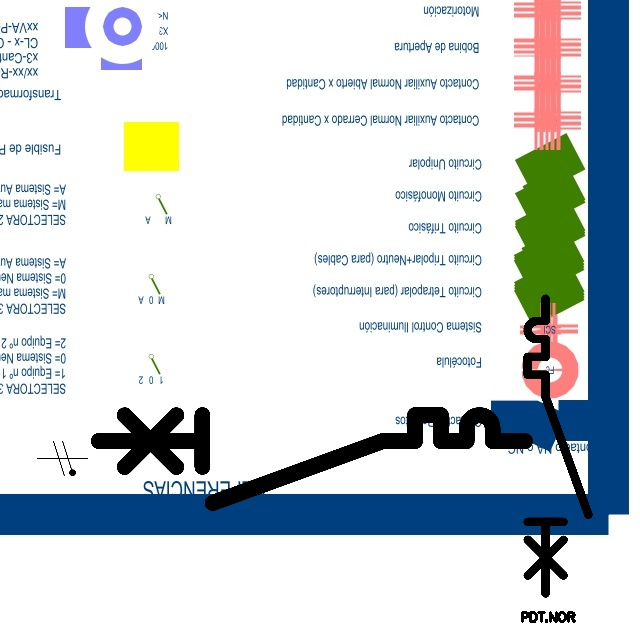interruptor_termomagnetico: (87, 404, 535, 513), (520, 291, 596, 601)
